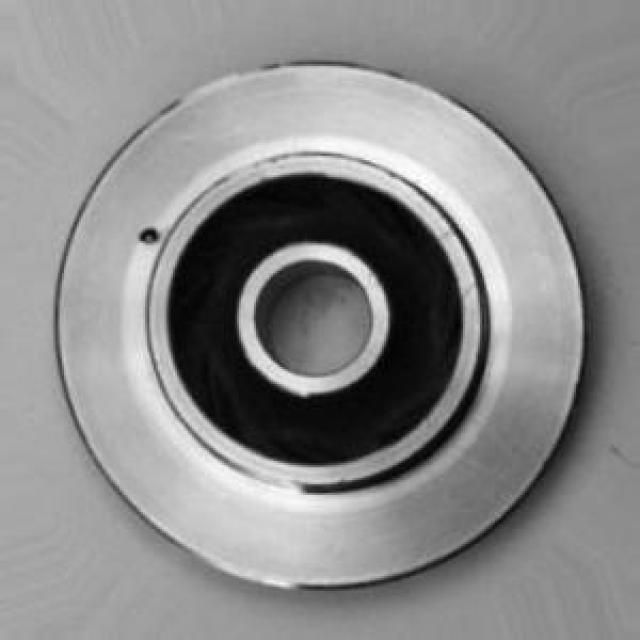Defect: (132, 213, 161, 257)
